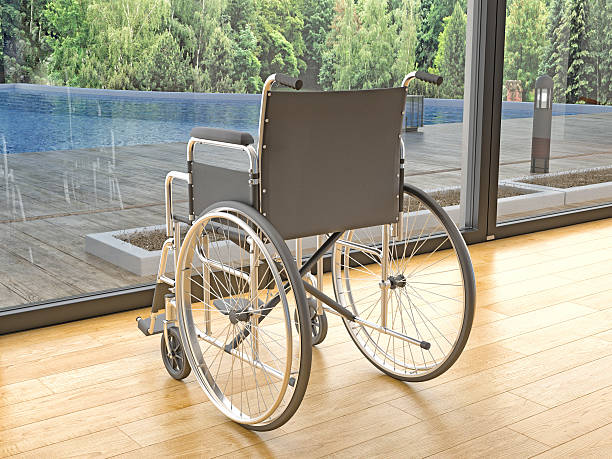wheelchair: (151, 179, 474, 421)
